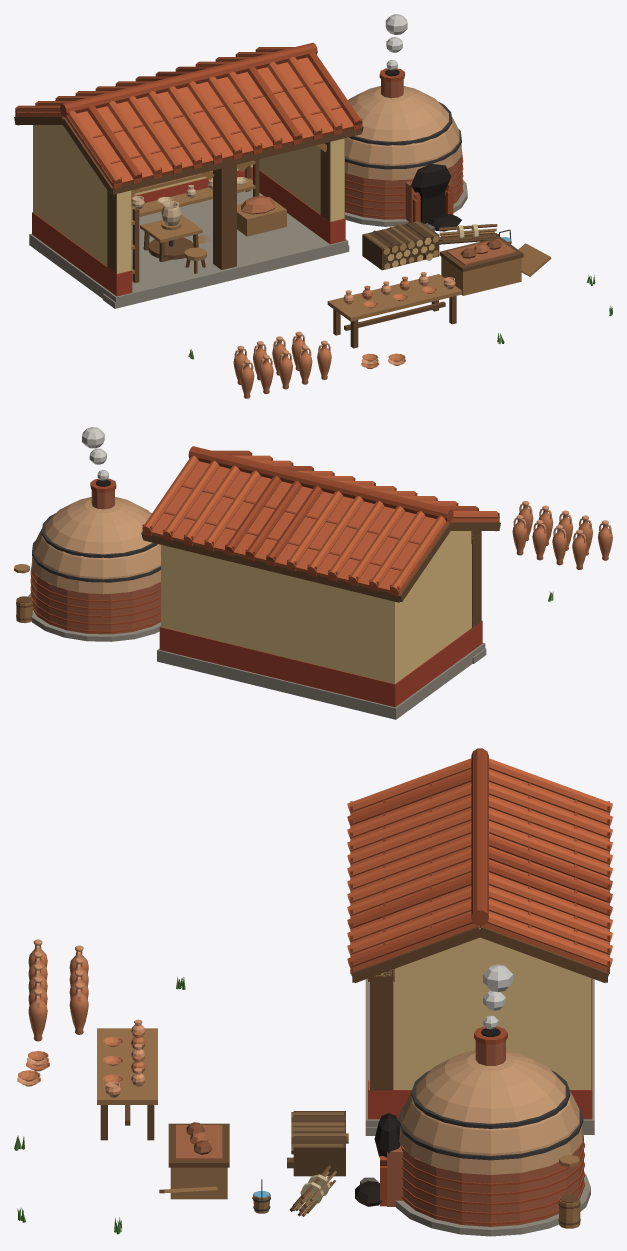
The model's file is Toepferei.fbx.
3 views of the same model, one above another, from view 1: azimuth 30°, elevation 25°; view 2: azimuth 150°, elevation 25°; view 3: azimuth 270°, elevation 25° (orthographic). The views are drawn at different scales.
Parts seen in each view (by area): view 1: Toepferei_0; view 2: Toepferei_0; view 3: Toepferei_0.
Part boxes in pixels (box(x1,y1,x2,y2)): Toepferei_0: box(14, 14, 612, 398); Toepferei_0: box(14, 427, 612, 719); Toepferei_0: box(14, 748, 612, 1236).
Bounding box in the file's own units: 3.4 × 1.45 × 3.35.
